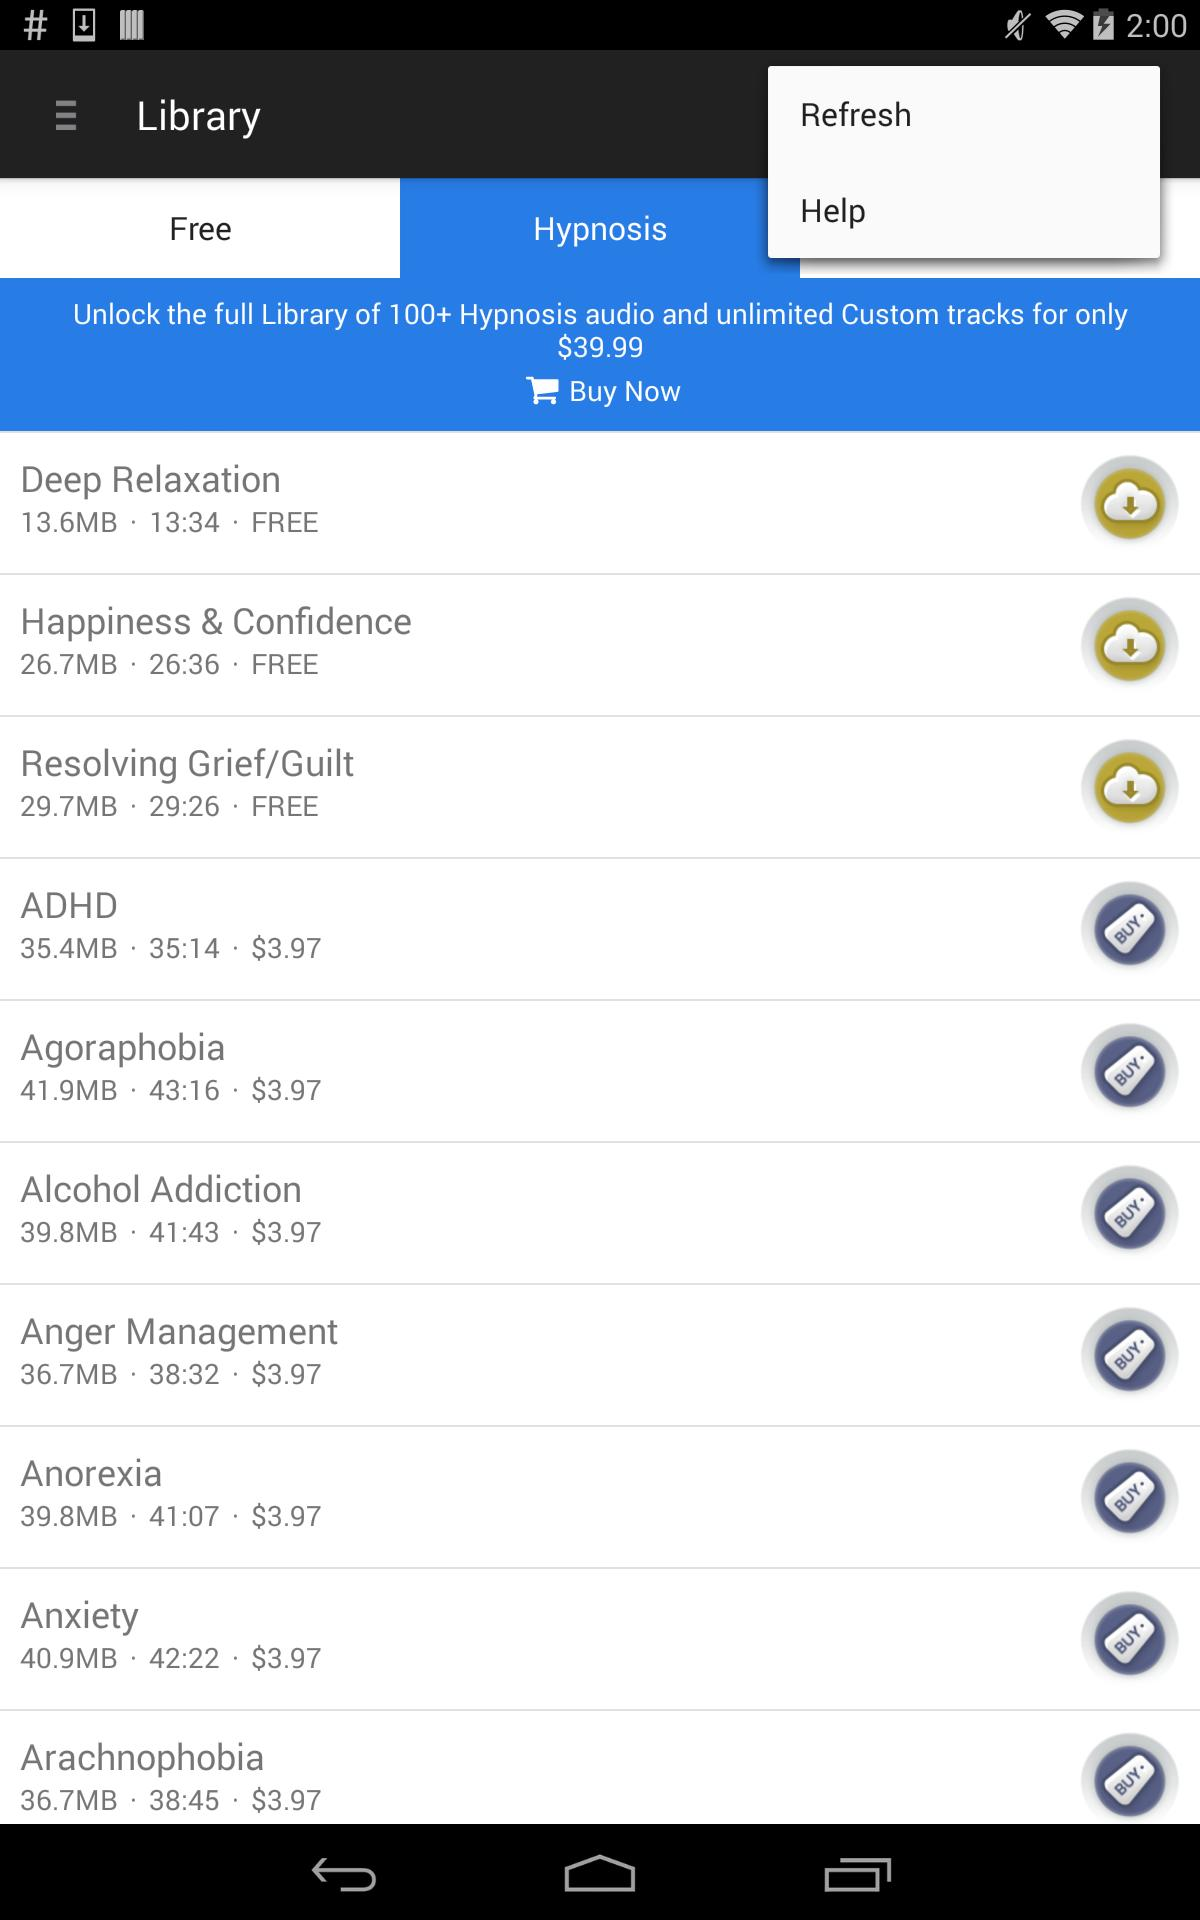android.widget.FrameLayout: (752, 50, 1176, 274)
android.widget.LinearLayout: (769, 162, 1160, 258), (769, 66, 1160, 162)
android.widget.RelativeLayout: (800, 93, 1128, 135), (800, 188, 1128, 231)
android.widget.TextView: (800, 93, 1128, 135), (800, 188, 1128, 231)
